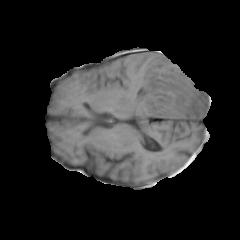glioma: (134, 55, 209, 117)
